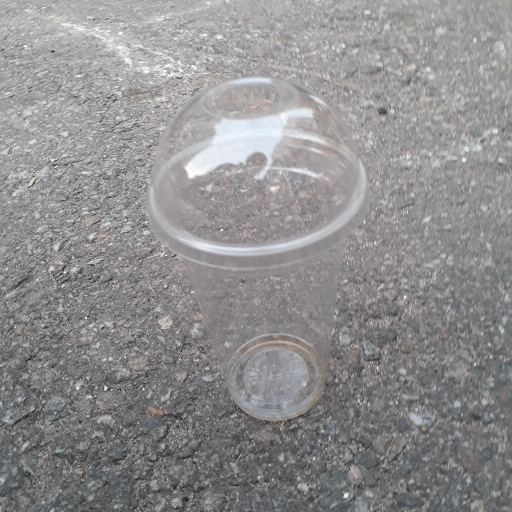Plastic_2: (145, 76, 366, 422)
